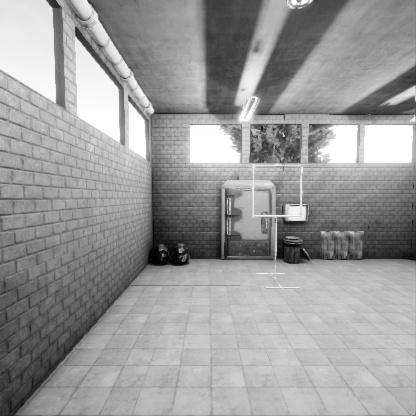gate: (252, 201, 306, 253)
